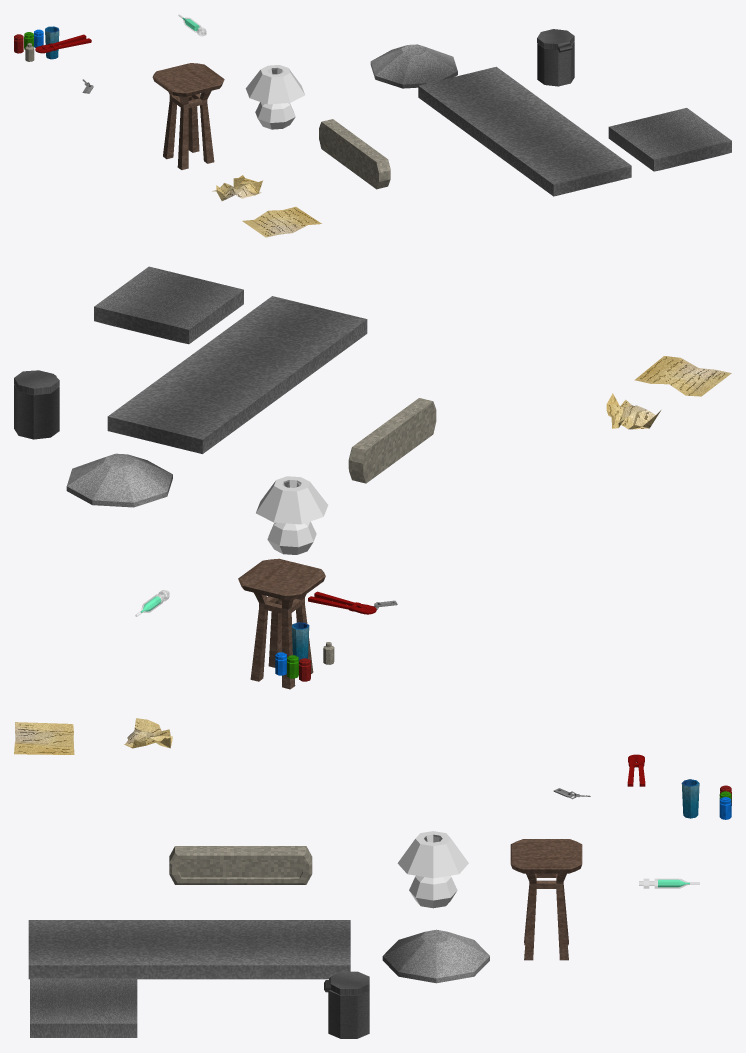
The model's file is AssetsPlus.fbx.
3 renders of one model, top to bottom at view 1: azimuth 30°, elevation 25°; view 2: azimuth 150°, elevation 25°; view 3: azimuth 270°, elevation 25°, orthographic. The views are drawn at different scales.
Parts seen in each view (by area): view 1: Hosp_Lampada1, Hosp_Lampada2, Cadeira_Madeira, Dormi_Lampada1, Hosp_Lampada3, Dormi_Abaju.009, Hosp_Lixo, Nota_Papel1, Nota_Papel2, Item_Alicate; view 2: Hosp_Lampada1, Hosp_Lampada2, Cadeira_Madeira, Dormi_Lampada1, Hosp_Lampada3, Dormi_Abaju.009, Hosp_Lixo, Nota_Papel1, Nota_Papel2, Item_Alicate; view 3: Hosp_Lampada1, Hosp_Lampada2, Hosp_Lampada3, Cadeira_Madeira, Dormi_Lampada1, Dormi_Abaju.009, Hosp_Lixo, Nota_Papel1, Nota_Papel2, Escri_Copo.
Boxes of the visible parts, x1,y1,x2,y2 form: Hosp_Lampada1: (418,66,631,196); Hosp_Lampada2: (608,108,731,171); Cadeira_Madeira: (152,63,224,169); Dormi_Lampada1: (370,44,457,88); Hosp_Lampada3: (319,119,390,189); Dormi_Abaju.009: (245,65,304,129); Hosp_Lixo: (537,29,574,86); Nota_Papel1: (242,206,321,237); Nota_Papel2: (212,175,262,200); Item_Alicate: (35,34,91,53); Hosp_Lampada1: (107,296,367,453); Hosp_Lampada2: (94,266,243,344); Cadeira_Madeira: (238,558,325,689); Dormi_Lampada1: (66,453,172,507); Hosp_Lampada3: (348,398,436,483); Dormi_Abaju.009: (256,476,328,554); Hosp_Lixo: (14,370,59,439); Nota_Papel1: (634,356,731,396); Nota_Papel2: (606,393,660,429); Item_Alicate: (308,591,376,614); Hosp_Lampada1: (28,920,350,979); Hosp_Lampada2: (30,978,137,1037); Hosp_Lampada3: (169,846,312,884); Cadeira_Madeira: (510,839,582,960); Dormi_Lampada1: (382,929,489,983); Dormi_Abaju.009: (397,831,468,908); Hosp_Lixo: (324,971,369,1038); Nota_Papel1: (14,722,74,754); Nota_Papel2: (124,718,172,748); Escri_Copo: (681,779,699,818).
Bounding box in the file's own units: 363 × 95.31 × 402.
